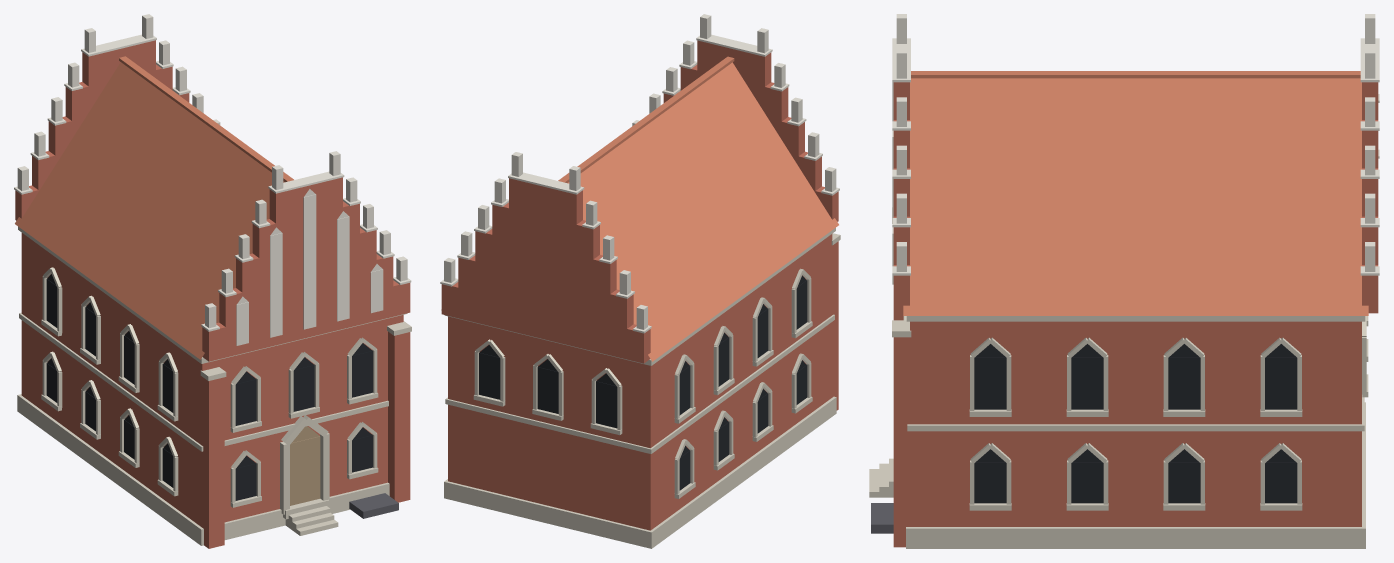
Rendered from house_patrician_brick.glb.
The picture shows the model from 3 angles, left to right: view 1: azimuth 30°, elevation 25°; view 2: azimuth 150°, elevation 25°; view 3: azimuth 270°, elevation 25°; orthographic projection. The views are drawn at different scales.
Parts seen in each view (by area): view 1: HousePatrician; view 2: HousePatrician; view 3: HousePatrician.
Boxes of the visible parts, <box> form: HousePatrician: <box>14,14,411,548</box>; HousePatrician: <box>440,14,840,548</box>; HousePatrician: <box>869,14,1379,548</box>.
Size of the model in its own units: 9.4 by 15.45 by 15.79.
